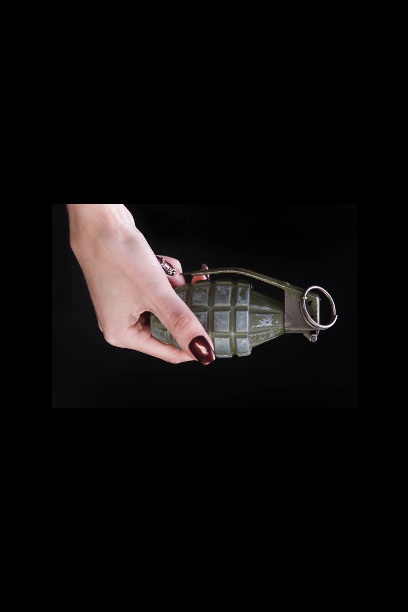e1: (140, 266, 342, 360)
